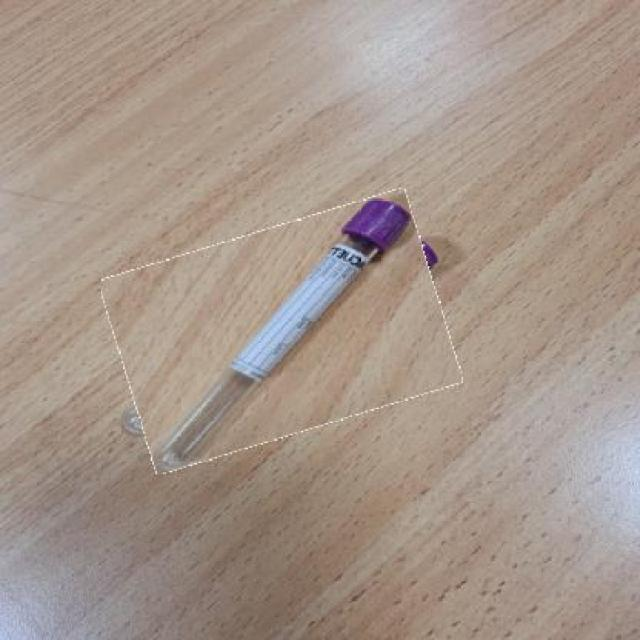Experimental-tube: (109, 210, 451, 456)
